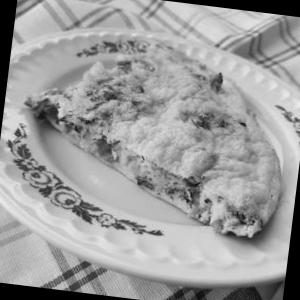omelet: (7, 35, 300, 265)
